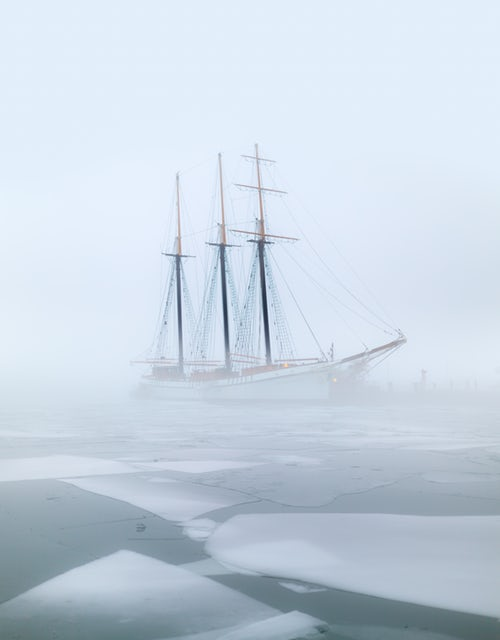yacht: (124, 153, 422, 406)
